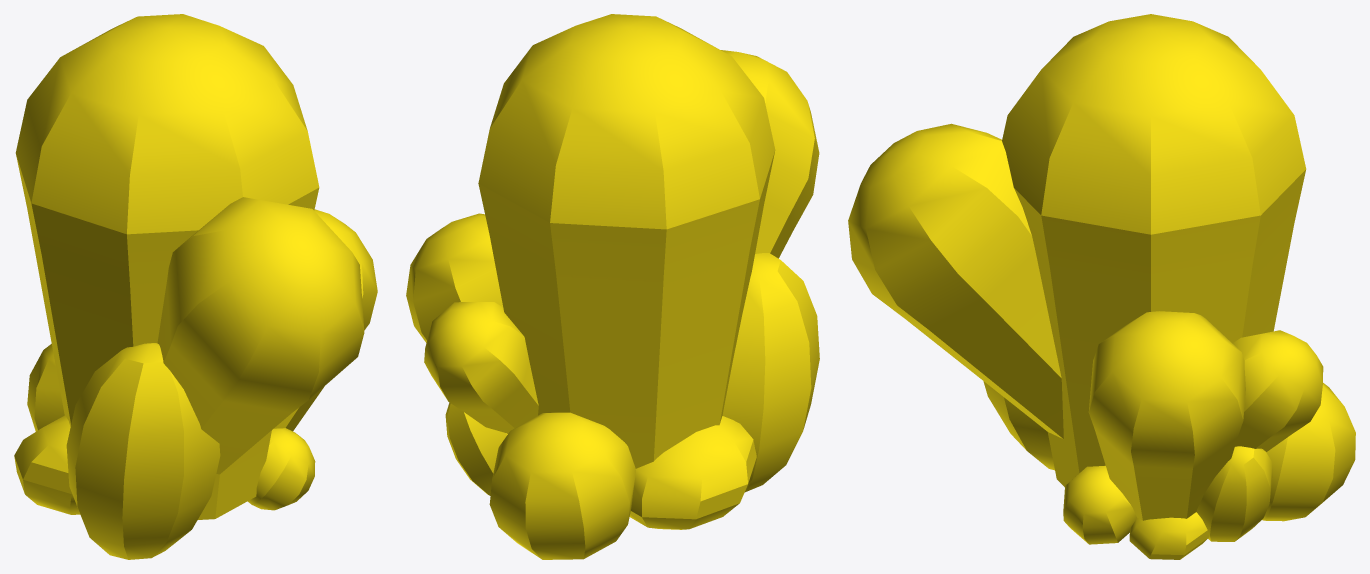
Rendered from gold.fbx.
The picture shows the model from 3 angles, left to right: view 1: azimuth 30°, elevation 25°; view 2: azimuth 150°, elevation 25°; view 3: azimuth 270°, elevation 25°; orthographic projection. The views are drawn at different scales.
Visible parts, largest first — view 1: Sphere.001; view 2: Sphere.001; view 3: Sphere.001.
Boxes of the visible parts, x1,y1,x2,y2 form: Sphere.001: (14, 14, 377, 559); Sphere.001: (406, 14, 819, 559); Sphere.001: (848, 14, 1355, 559).
Size of the model in its own units: 127 by 173 by 164.
